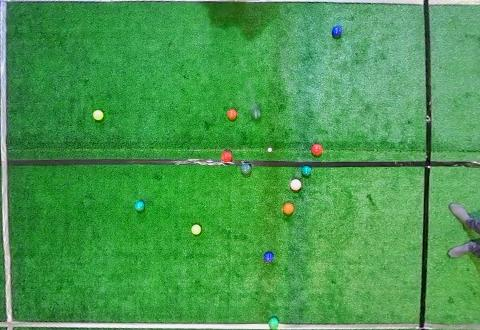blue: (331, 26, 342, 38), (263, 252, 274, 262)
green: (301, 165, 312, 178), (241, 163, 252, 175), (134, 200, 145, 212), (268, 317, 279, 329), (251, 108, 261, 120)
red: (289, 179, 303, 192), (220, 150, 233, 163), (282, 202, 295, 215), (311, 143, 323, 156), (227, 108, 238, 120)
vline: (418, 1, 480, 329), (0, 1, 17, 329)
white: (267, 147, 272, 153)
yellow: (92, 110, 104, 121), (191, 224, 202, 235)
